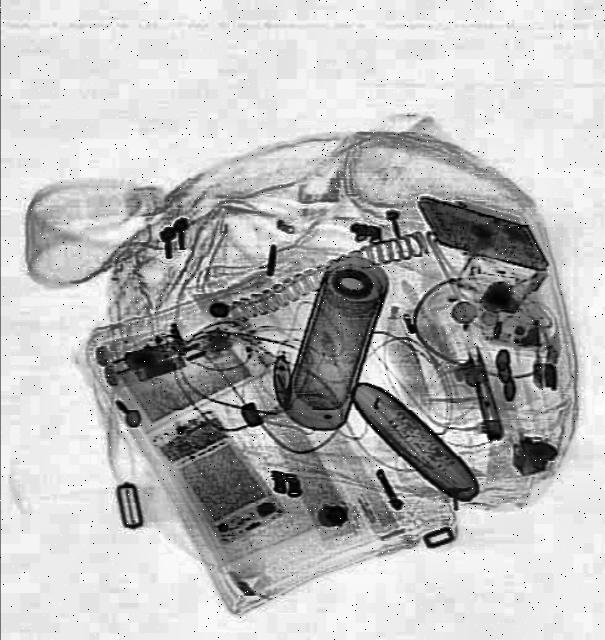Scissors: (461, 340, 504, 440)
